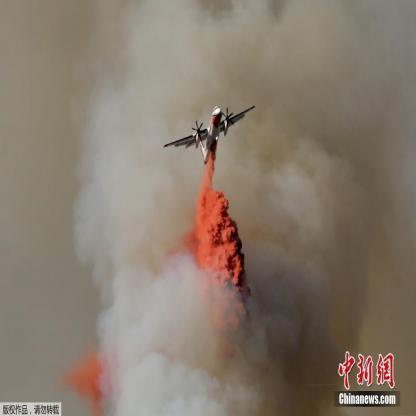smoke: (285, 18, 415, 242), (71, 80, 158, 310), (94, 278, 233, 416), (237, 254, 320, 395), (134, 1, 278, 80), (328, 259, 402, 343), (239, 138, 283, 232), (188, 187, 237, 266)
